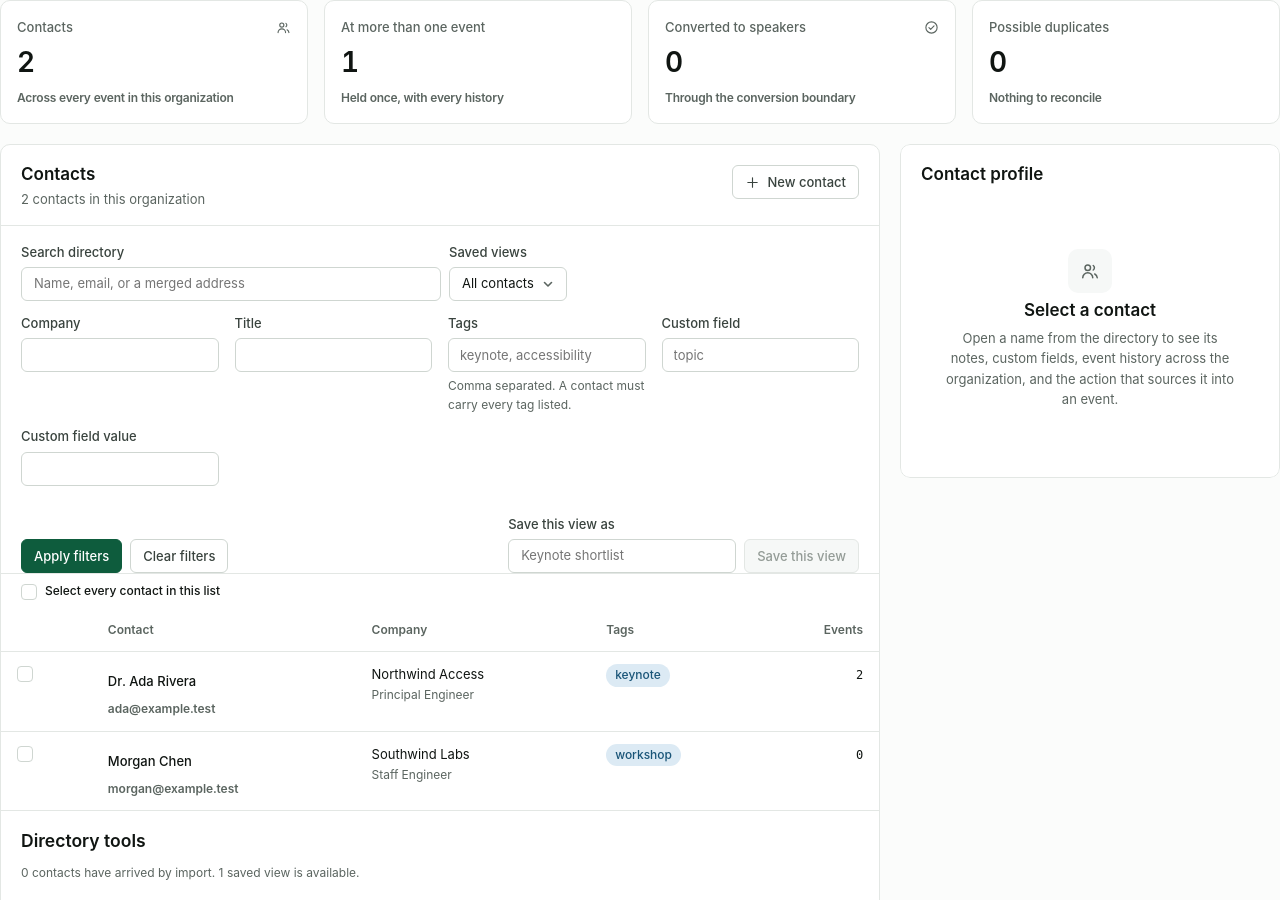
Test case: the organization-wide speaker directory › previews outreach before sending it, and names the delivery count afterwards
This screenshot has width=1280, height=900.
Expected: the button "Dr. Ada Rivera" is shown, [108,664,196,698]
What coordinates should you click on to do the following:
click the checkbox named "Select Dr. Ada Rivera for outreach"
I would click on:
 (46, 673)
Its box is [17,664,76,682].
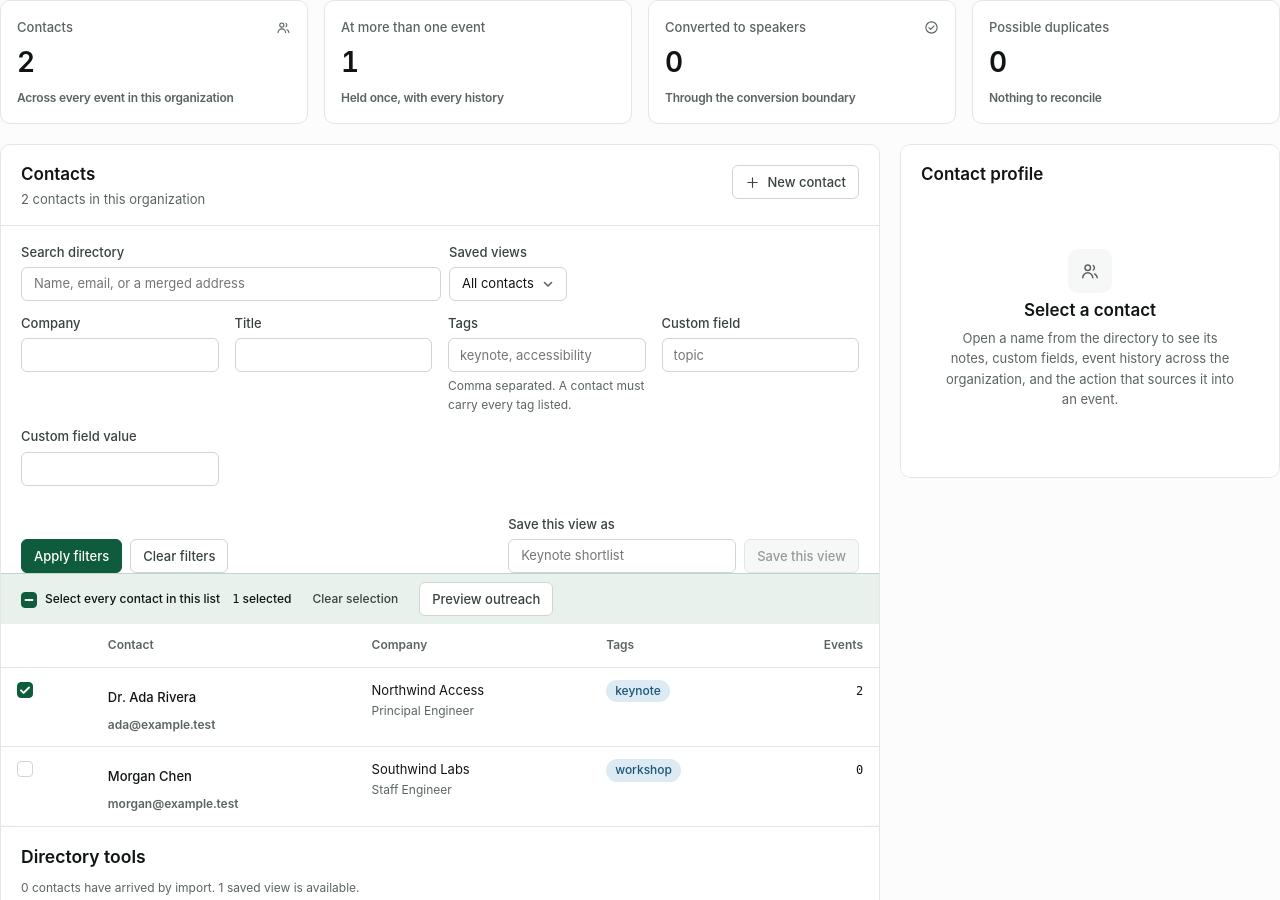
What coordinates should you click on to do the following:
click the button "Preview outreach"
I would click on:
 (486, 599)
Its box is [419,582,554,616].
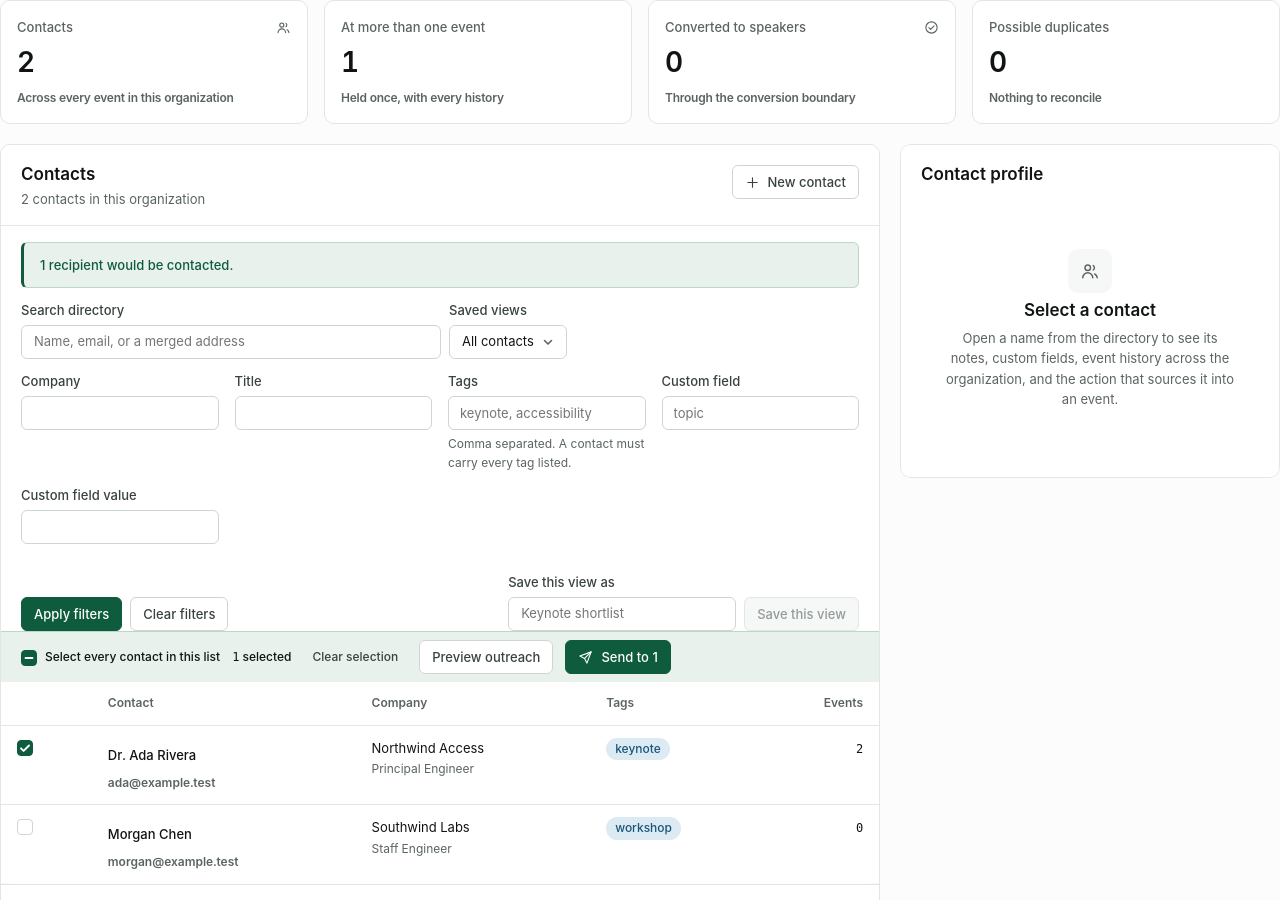
Expected: the button "Send to 1" is shown
What coordinates should you click on to do the following:
click the button "Send to 1"
I would click on:
 (618, 657)
Its box is [565,640,671,674].
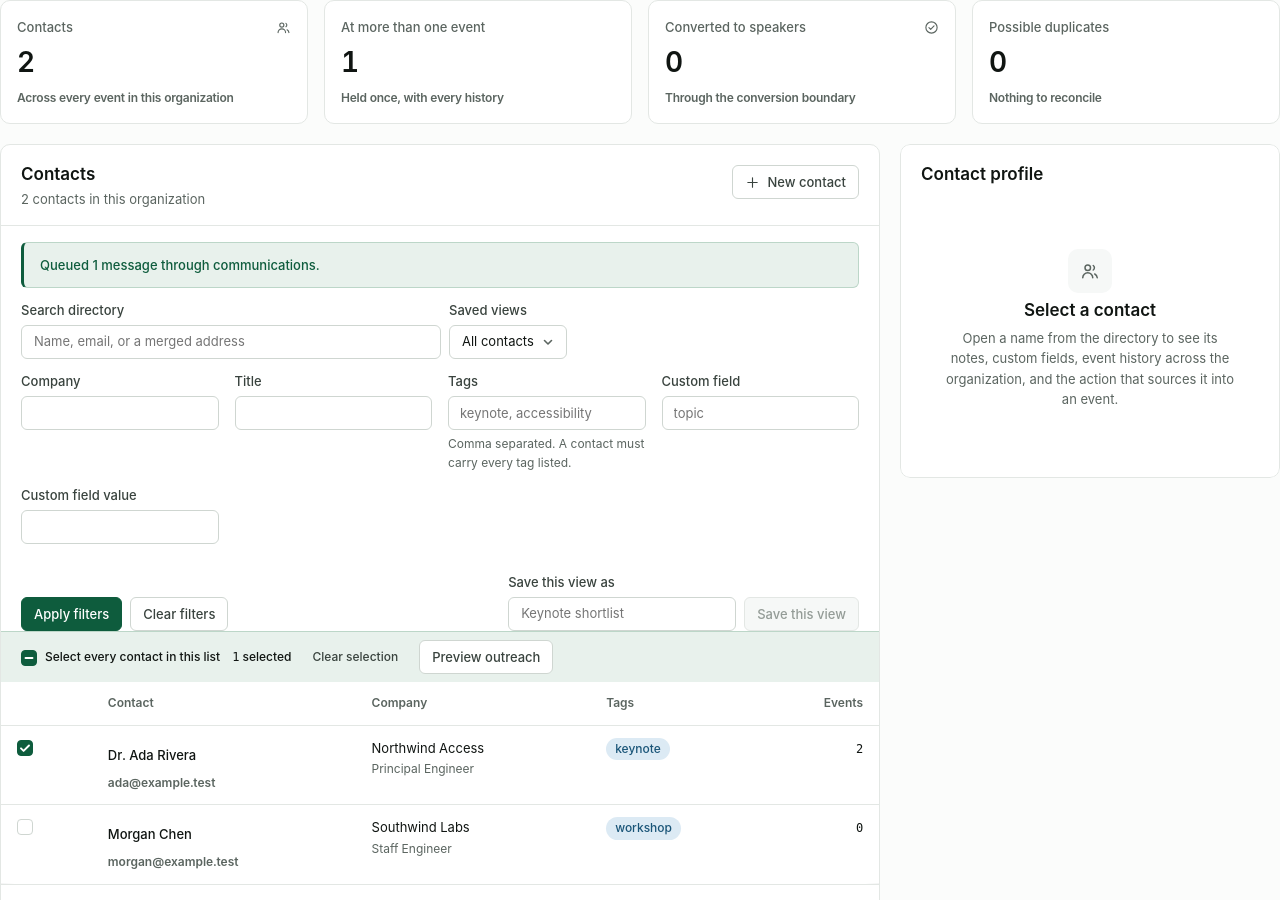
Expected: the text "Queued 1 message through communications." is shown, [40,257,320,273]
